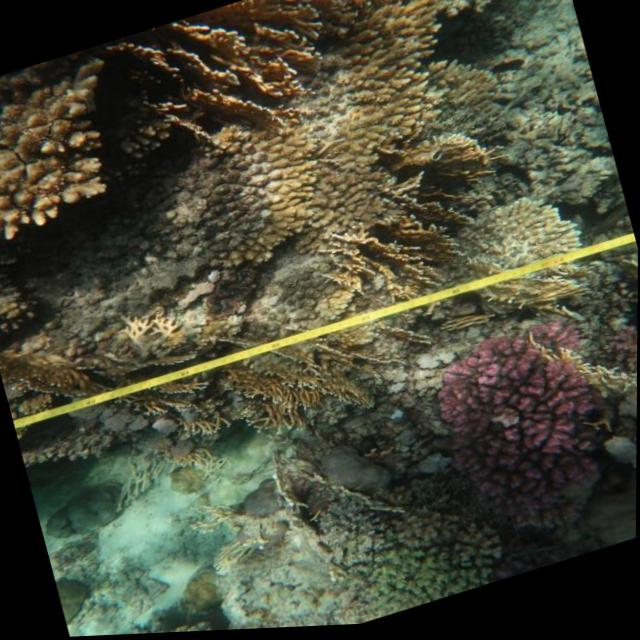Healthy Coral: (418, 296, 638, 559), (101, 0, 354, 191), (0, 42, 146, 264)
